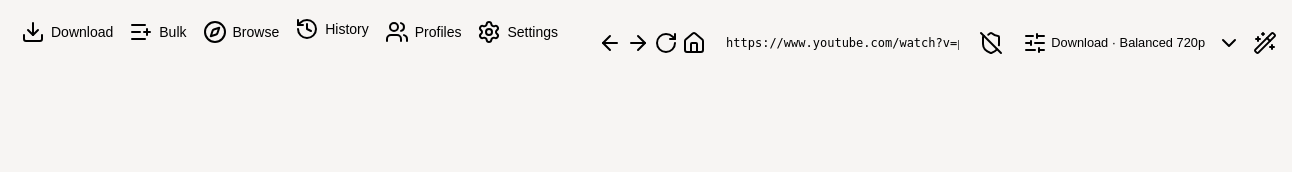
Explore address bar › the hint closes on an edit
The image size is (1292, 172).
Step 1. Replace the text in the field with test id "explore-address" with "javascript:alert(1)" → (843, 43), box x1=716 y1=29 x2=969 y2=57
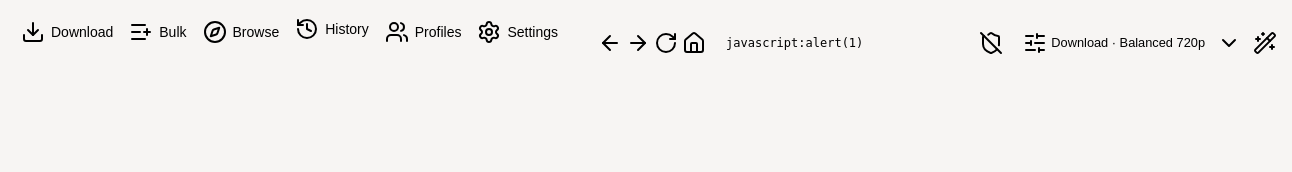
Step 2. Press Enter in the field with test id "explore-address", box x1=716 y1=29 x2=969 y2=57
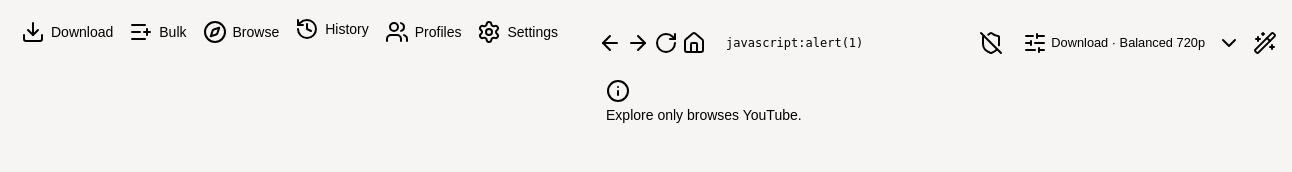
Check: the element with test id "explore-address-hint" is shown, box x1=606 y1=79 x2=802 y2=123
Step 3. Replace the text in the field with test id "explore-address" with "javascript:alert(2)" → (843, 43), box x1=716 y1=29 x2=969 y2=57
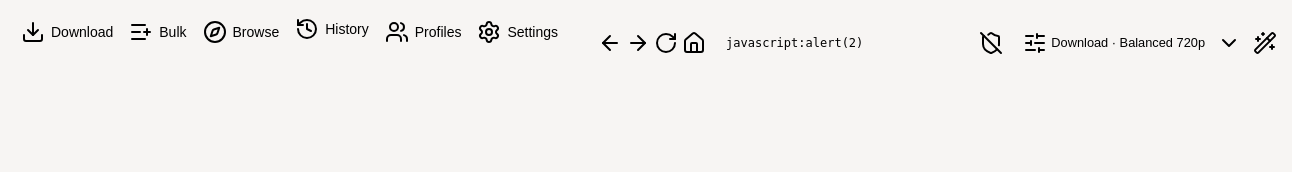
Check: the element with test id "explore-address-hint" is gone
